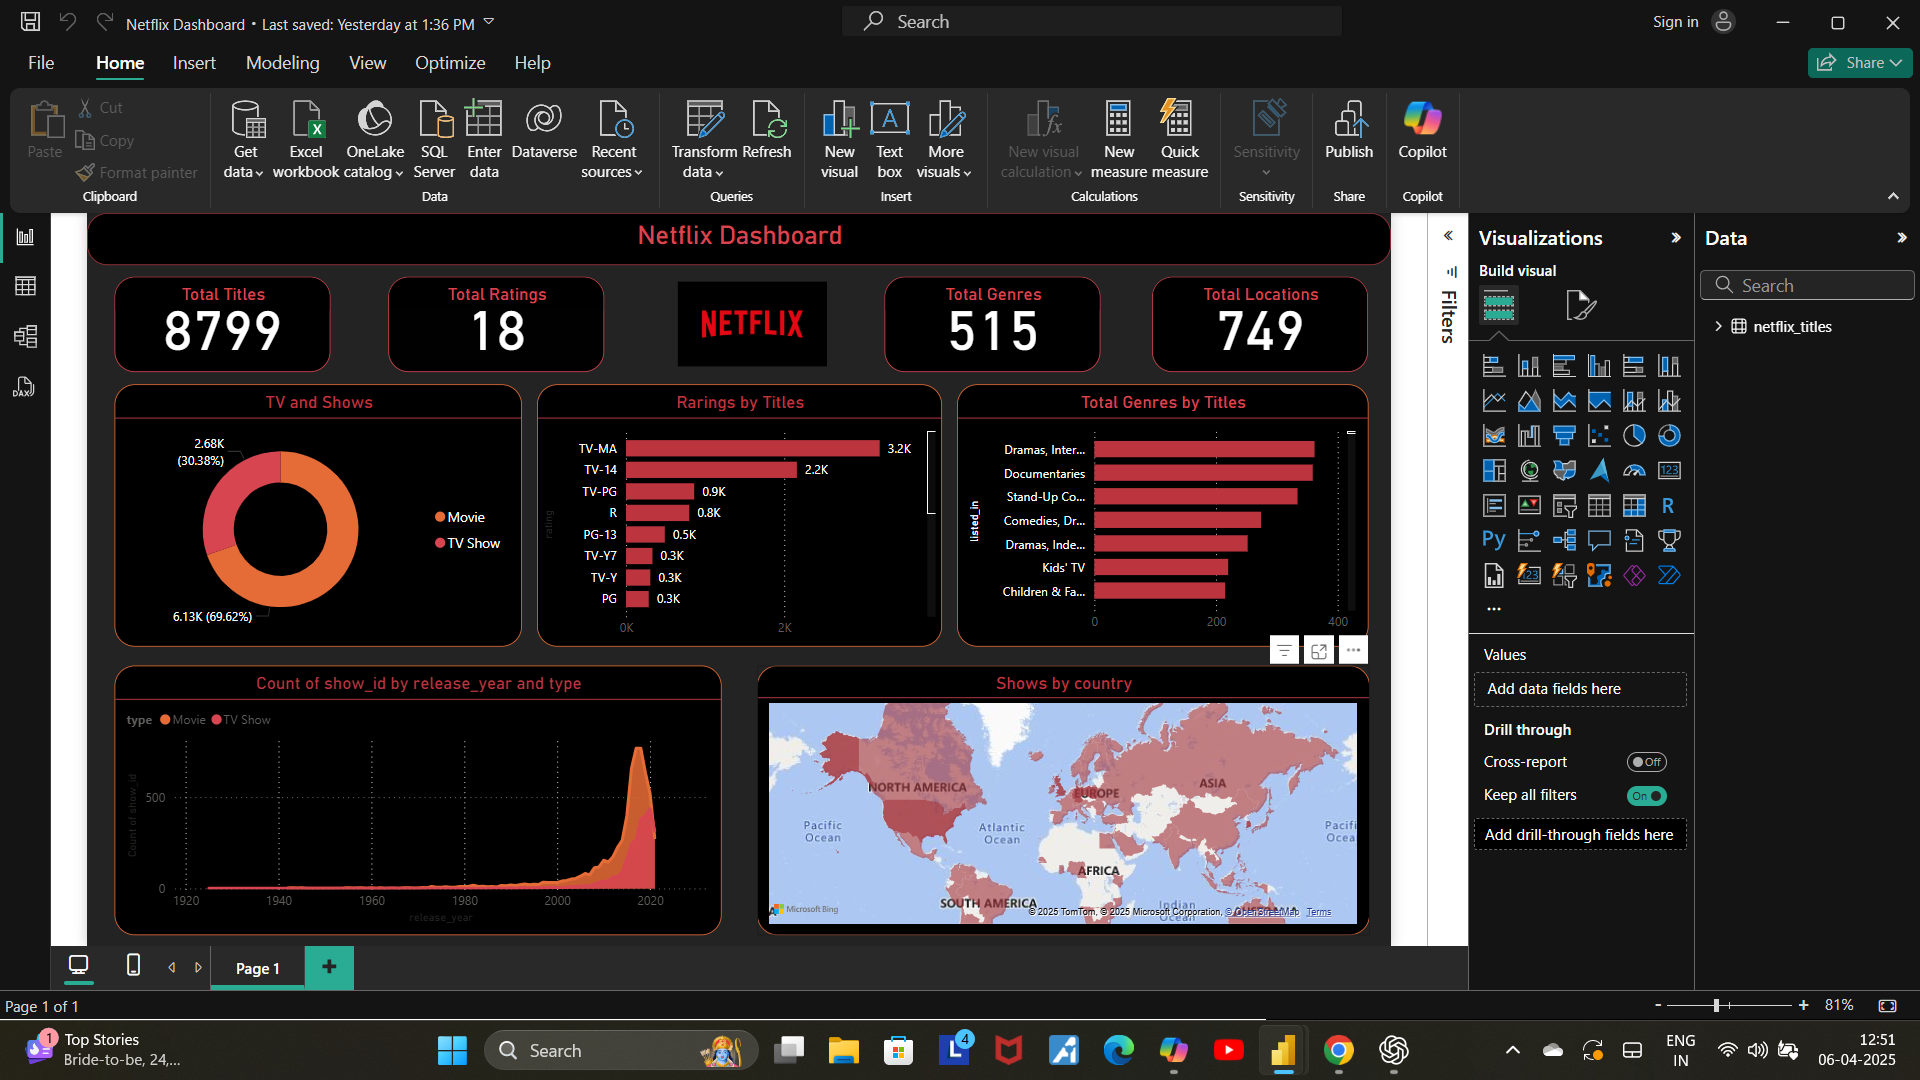

This screenshot's page, from the dashboard's own definition file:
{"tool":"powerbi","page":{"name":"Page 1","canvas":[1280,720],"ordinal":0},"visuals":[{"type":"donutChart","title":"TV and Shows","fields":{"Y":["CountNonNull(netflix_titles.show_id)"],"Category":["netflix_titles.type"]},"box":[27,168.1,400,257.7],"z":0},{"type":"barChart","title":"Rarings by Titles","fields":{"Category":["netflix_titles.rating"],"Y":["Count(netflix_titles.show_id)"]},"box":[441.7,168.1,397.5,257.7],"z":1000},{"type":"barChart","title":"Total Genres by Titles","fields":{"Category":["netflix_titles.listed_in"],"Y":["Count(netflix_titles.show_id)"]},"box":[854,168.1,403.7,257.7],"z":2000},{"type":"filledMap","title":"Shows by country","fields":{"Category":["netflix_titles.country"]},"box":[657.7,444.2,601.2,265],"z":3000},{"type":"areaChart","title":"Count of show by release year and type","fields":{"Category":["netflix_titles.release_year"],"Y":["Count(netflix_titles.show_id)"],"Series":["netflix_titles.type"]},"box":[27,444.2,596.3,265],"z":4000},{"type":"textbox","title":"Netflix Dashboard","box":[0,0,1279.8,51.5],"z":5000},{"type":"card","title":"Total Titles","fields":{"Values":["Count(netflix_titles.title)"]},"box":[27,62.6,212.3,93.3],"z":6000},{"type":"card","title":"Total Ratings","fields":{"Values":["Count(netflix_titles.rating)"]},"box":[295.7,62.6,212.3,93.3],"z":7000},{"type":"card","title":"Total Genres","fields":{"Values":["Count(netflix_titles.listed_in)"]},"box":[782.8,62.6,212.3,93.3],"z":8000},{"type":"card","title":"Total Locations","fields":{"Values":["Count(netflix_titles.country)"]},"box":[1045.4,62.6,212.3,93.3],"z":9000},{"type":"image","box":[508,62.6,290.8,93.3],"z":10000}]}

Visuals, with their boxes on the page's 1280x720 design canvas (x1, y1, x2, y2). These are canvas units, not pixel positions in the 1920x1080 screenshot, which may show the page scaled, cropped or inside an application window:
"TV and Shows" donutChart: [left=27, top=168, right=427, bottom=426]
"Rarings by Titles" barChart: [left=442, top=168, right=839, bottom=426]
"Total Genres by Titles" barChart: [left=854, top=168, right=1258, bottom=426]
"Shows by country" filledMap: [left=658, top=444, right=1259, bottom=709]
"Count of show by release year and type" areaChart: [left=27, top=444, right=623, bottom=709]
"Netflix Dashboard" textbox: [left=0, top=0, right=1280, bottom=52]
"Total Titles" card: [left=27, top=63, right=239, bottom=156]
"Total Ratings" card: [left=296, top=63, right=508, bottom=156]
"Total Genres" card: [left=783, top=63, right=995, bottom=156]
"Total Locations" card: [left=1045, top=63, right=1258, bottom=156]
image: [left=508, top=63, right=799, bottom=156]
